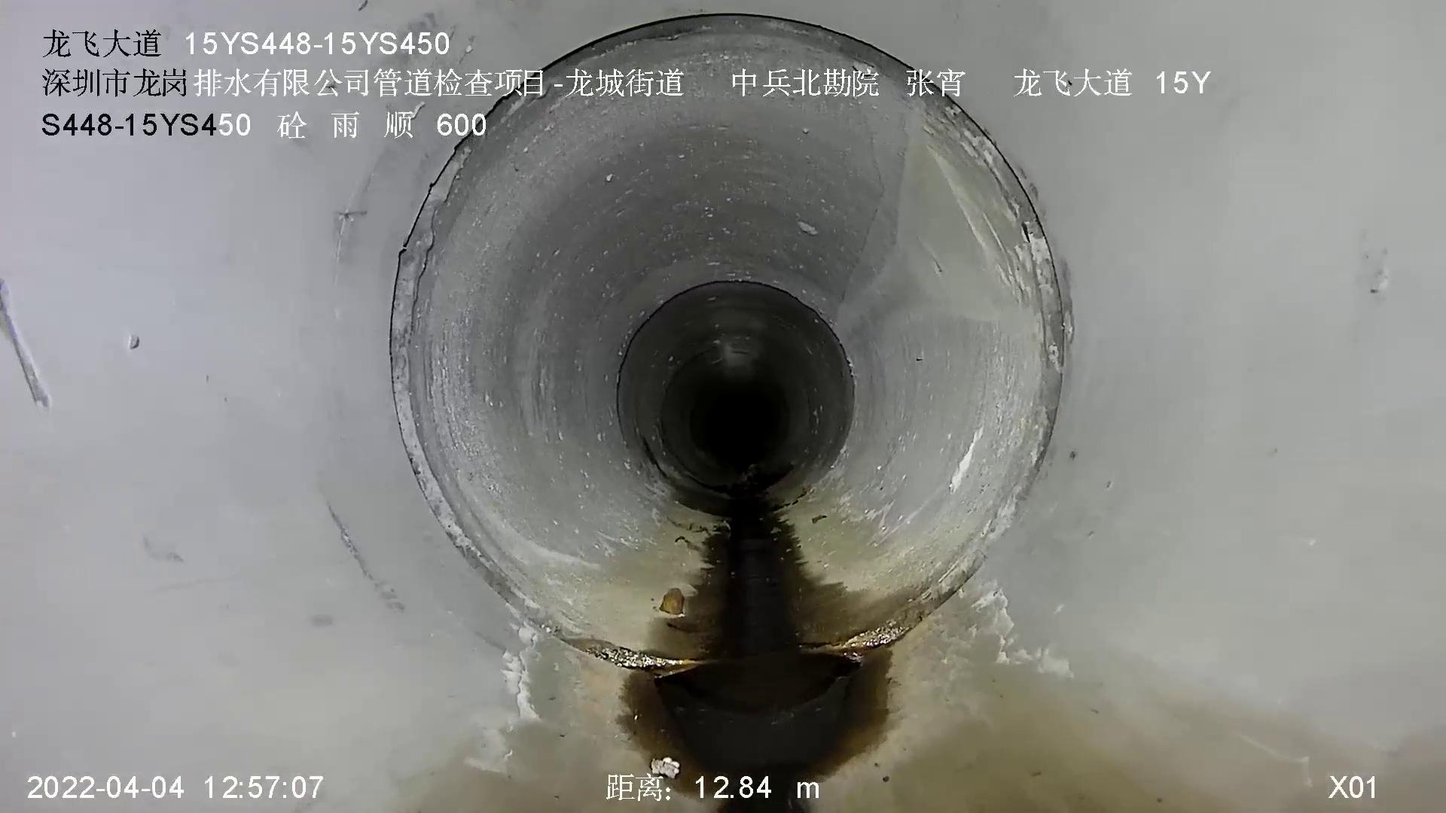CKTJ: (389, 116, 723, 676), (797, 87, 1072, 659), (487, 14, 916, 126)
